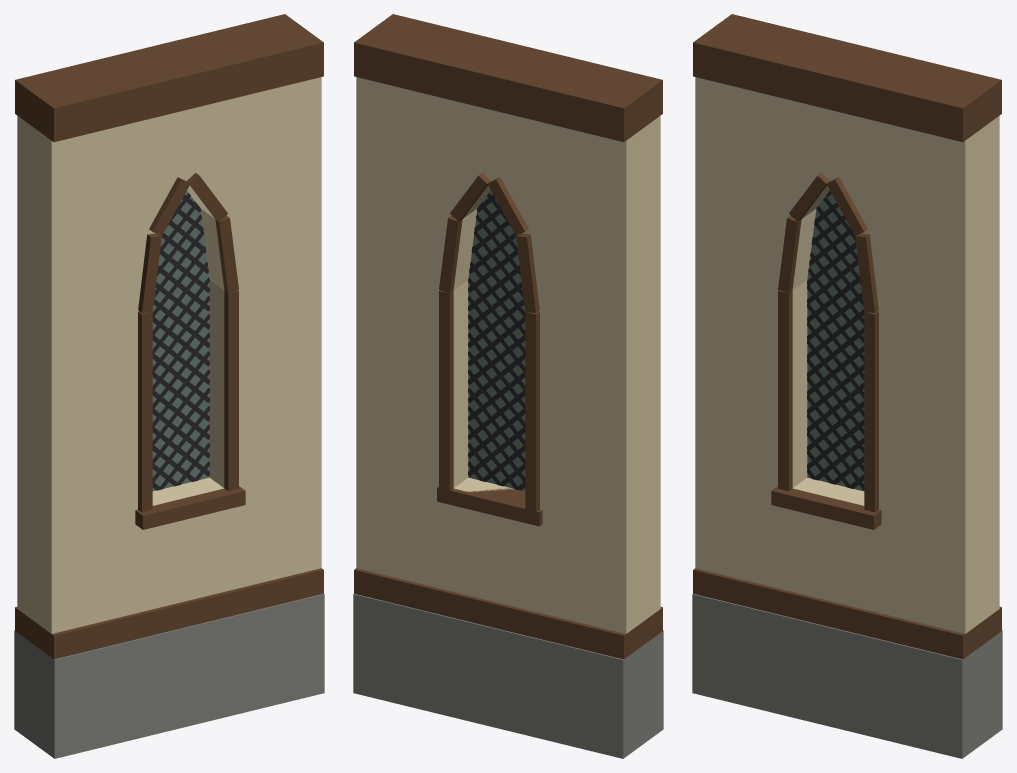
File: WallLancet.fbx
3 views of the same model, side by side, from view 1: azimuth 30°, elevation 25°; view 2: azimuth 150°, elevation 25°; view 3: azimuth 330°, elevation 25° (orthographic).
Parts seen in each view (by area): view 1: Kit_WallLancet; view 2: Kit_WallLancet; view 3: Kit_WallLancet.
Boxes of the visible parts, box(x1,y1,x2,y2) form: Kit_WallLancet: box(14, 14, 324, 758); Kit_WallLancet: box(353, 14, 663, 758); Kit_WallLancet: box(692, 14, 1002, 758).
Size of the model in its own units: 1 by 2.3 by 0.295.
